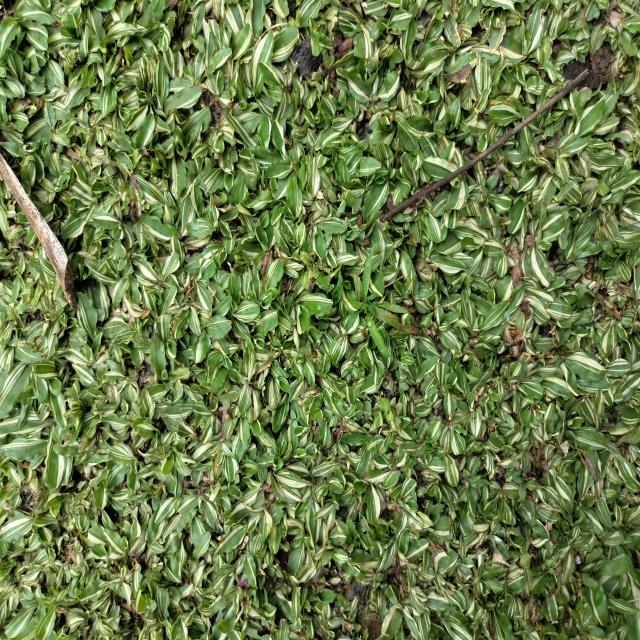rambat atas: (352, 243, 410, 359)
ungu tunggang: (286, 407, 302, 430)
